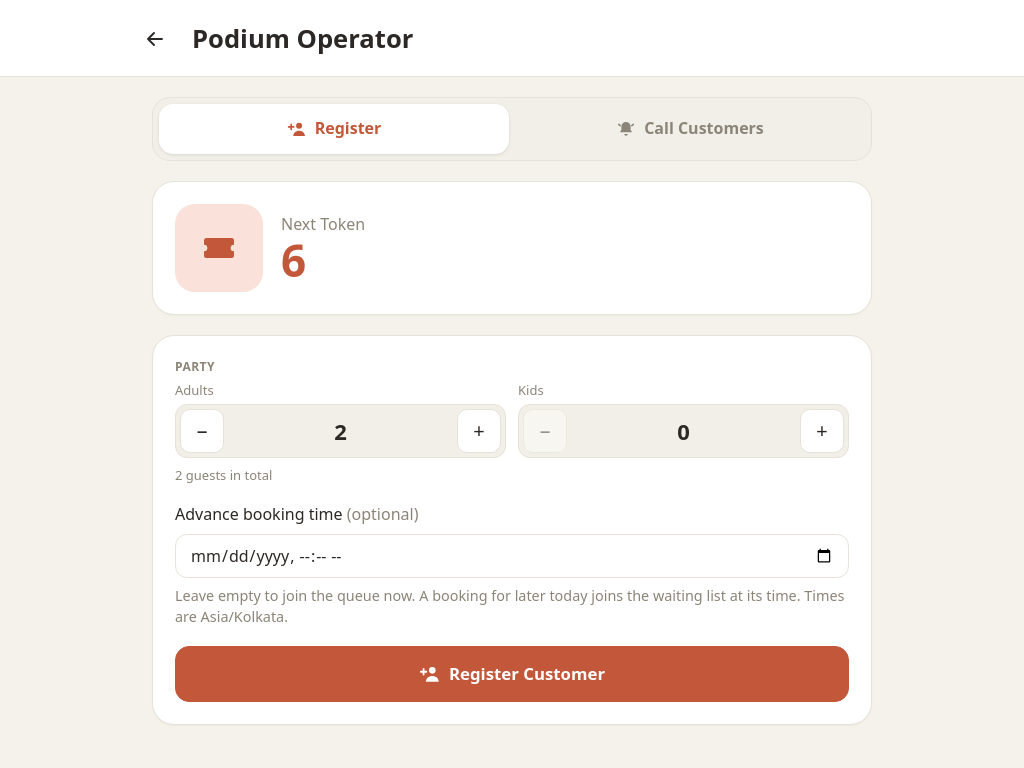
Test case: Podium operator — tabs and registering › registers a party and reconciles the board
This screenshot has width=1024, height=768.
Click the button "Register Customer" at (512, 674), box [175, 646, 849, 702]
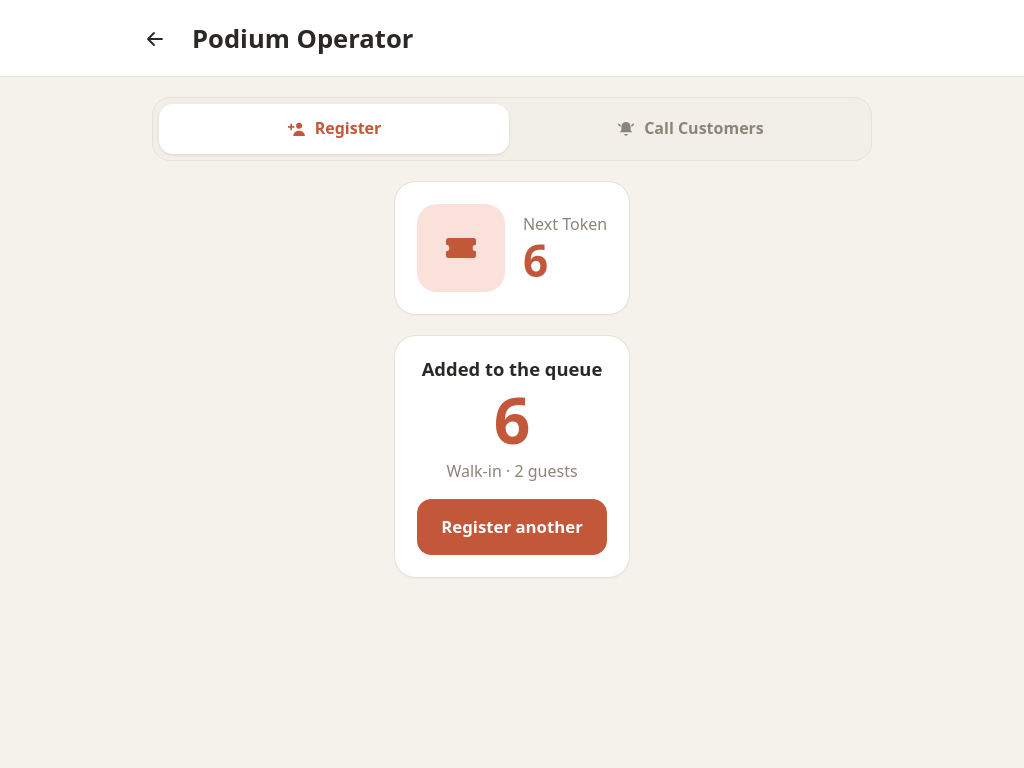
Result: the message shows "Added to the queue" at [422, 356, 602, 381]
